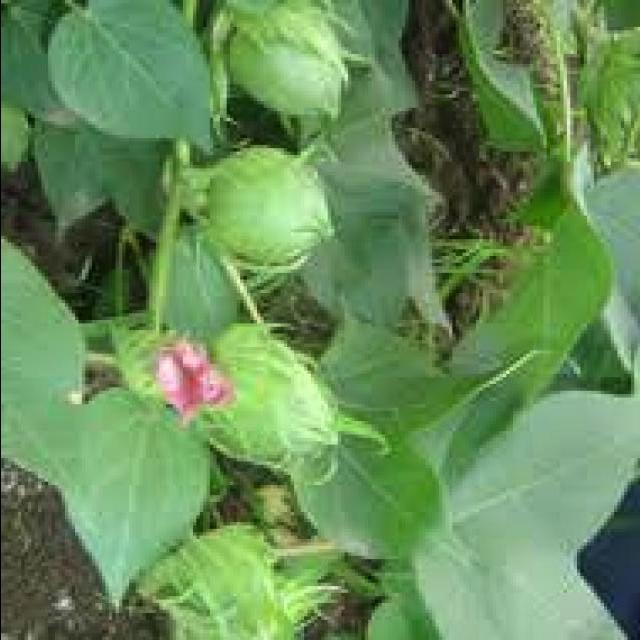Cotton Blossom: (112, 334, 244, 422)
Early Boll: (192, 322, 353, 472), (179, 142, 337, 271), (215, 2, 363, 124), (153, 528, 306, 640)
